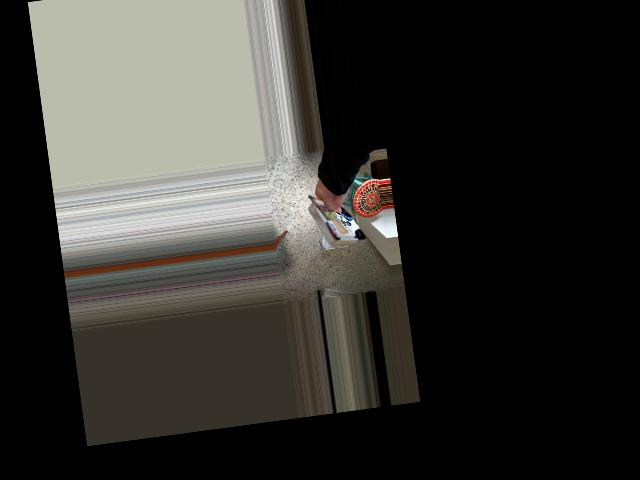cheese: (298, 174, 376, 253)
